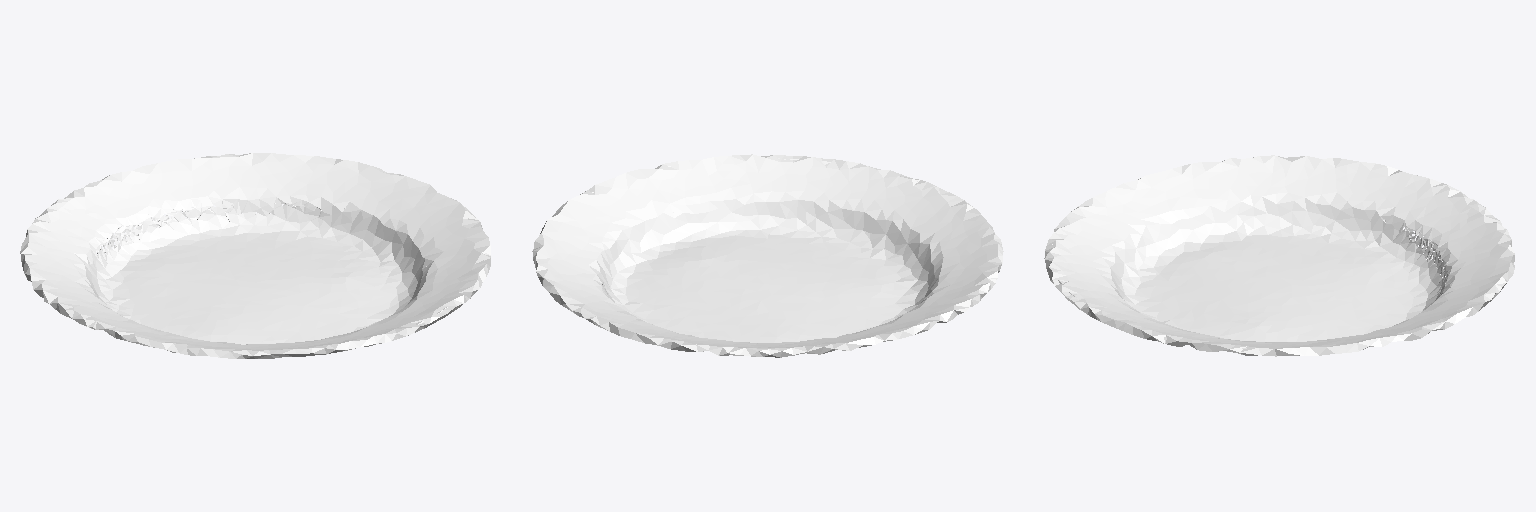
The robot description file, URDF, robot "plate":
<?xml version="1.0" ?>
<robot name="plate">
  <link name="Link">

    <inertial>
      <origin rpy="0 0 0" xyz="-0.010006 0.001247 0.008850"/>
       <mass value="0.070"/>

       <inertia ixx="2.4698e-7" ixy="1.81e-9" ixz="1.23e-9"
                iyy="2.4906e-7" iyz="2.18e-9"
                izz="4.8635e-7"/>
    </inertial>
    <visual>
      <origin rpy="0 0 0" xyz="0 0 0"/>
      <geometry>
            <mesh filename="textured2.obj" scale="1 1 1"/>
      </geometry>
        <material name="framemat0">
        <color rgba="1 1 1 1"/>
      </material>
    </visual>

    <collision>
      <geometry>
	 	 <mesh filename="textured2.obj" scale="1 1 1"/>
      </geometry>
    </collision>
  </link>
</robot>

--- What the picture shows (computed from the rendered views, not written in the file) ---
3 views of the same robot in one strip: view 1: azimuth 30°, elevation 25°; view 2: azimuth 150°, elevation 25°; view 3: azimuth 270°, elevation 25° (orthographic).
Robot: plate — 1 links, 0 joints (none); root link Link; default pose: every joint at zero.
Visible links, largest first — view 1: Link; view 2: Link; view 3: Link.
Link boxes in pixels (x1,y1,x2,y2): Link: (20,153,490,358); Link: (532,154,1003,357); Link: (1044,155,1514,356).
Bounding box of the posed robot: 0.2603 × 0.261 × 0.027 m (x, y, z).
Meshes: 1 distinct files referenced, 1 mesh visuals loaded (1 OBJ).